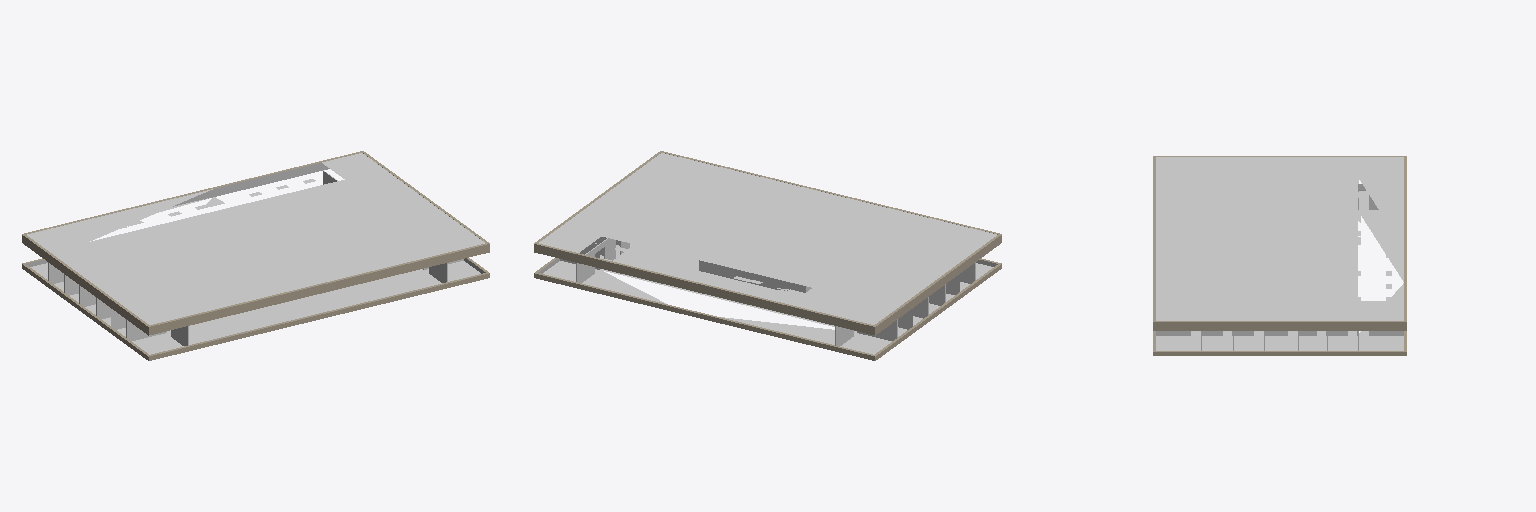
Rendered from Envelope_WWR60p_9ft.obj.
The picture shows the model from 3 angles: view 1: azimuth 30°, elevation 25°; view 2: azimuth 150°, elevation 25°; view 3: azimuth 270°, elevation 25°; orthographic projection.
Parts seen in each view (by area): view 1: floor9ft; view 2: floor9ft; view 3: floor9ft.
Part boxes in pixels (left/top/right/bottom): floor9ft: left=22, top=151, right=489, bottom=360; floor9ft: left=534, top=151, right=1001, bottom=360; floor9ft: left=1153, top=156, right=1406, bottom=355.
Size of the model in its own units: 38.71 by 3.69 by 24.94.